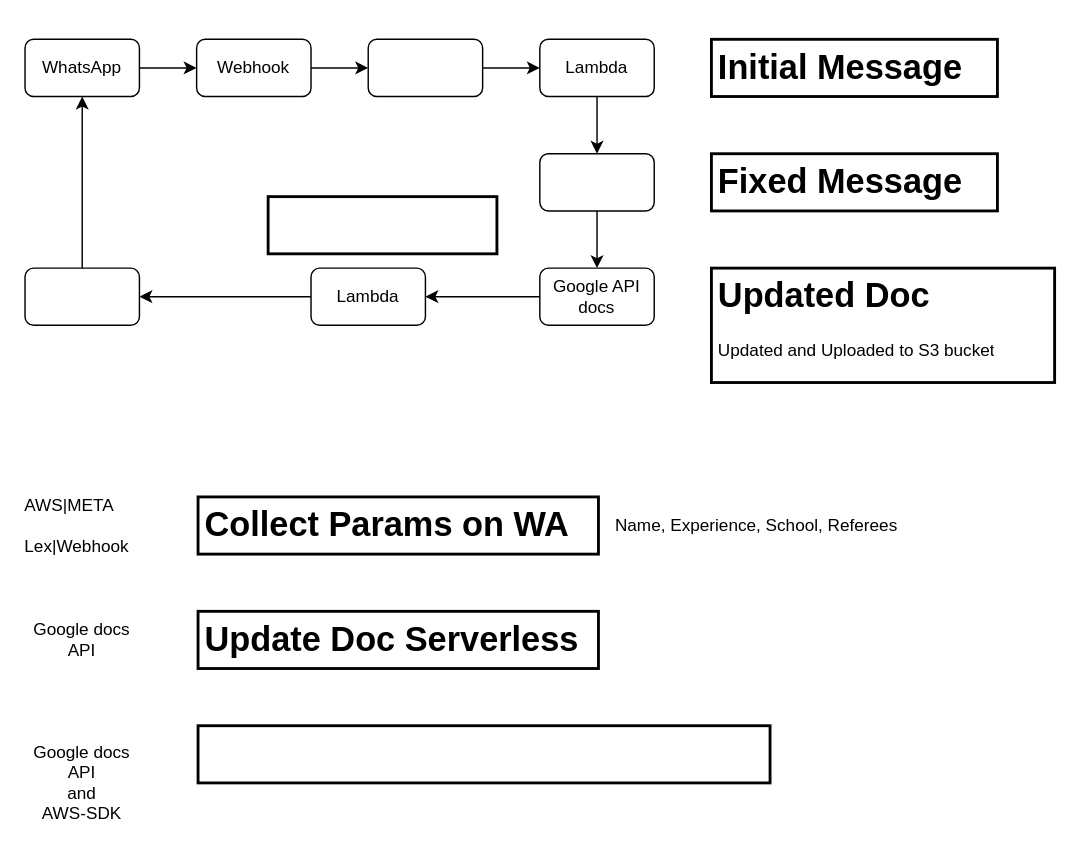
Some shapes in this 1081 by 864 pixel diagram are drawn without their labels. The centre of each missing label's shape, as x and y in pixels:
"AWS Lex" belongs at point (425, 67).
"fixie.ai" belongs at point (596, 181).
"S3 public url" belongs at point (81, 296).
"Send|Upload Doc as PDF to S3" belongs at point (483, 754).
"updated Doc" belongs at point (382, 224).
